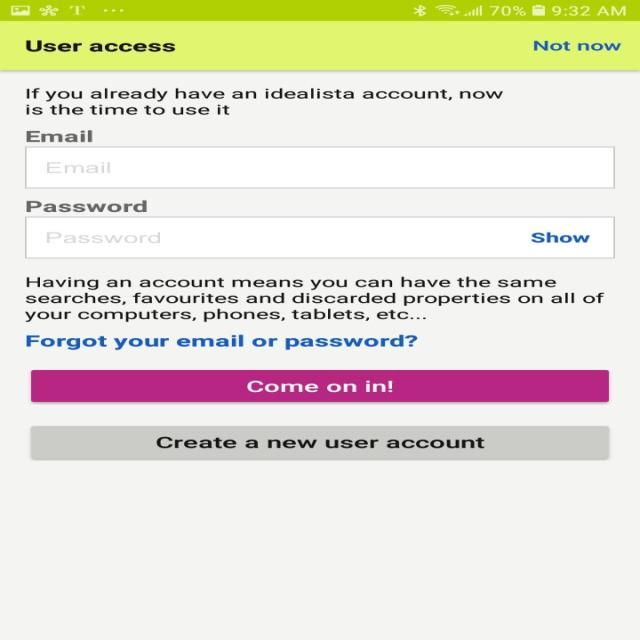EditText: (24, 216, 614, 258), (24, 146, 614, 188)
Text: (24, 276, 604, 322), (26, 87, 502, 115), (26, 334, 417, 350), (25, 40, 175, 52), (26, 200, 146, 212), (46, 232, 160, 244), (532, 41, 620, 51), (26, 130, 92, 143), (47, 162, 110, 173), (530, 232, 590, 243)
TextButton: (30, 426, 608, 458), (31, 370, 609, 402)
